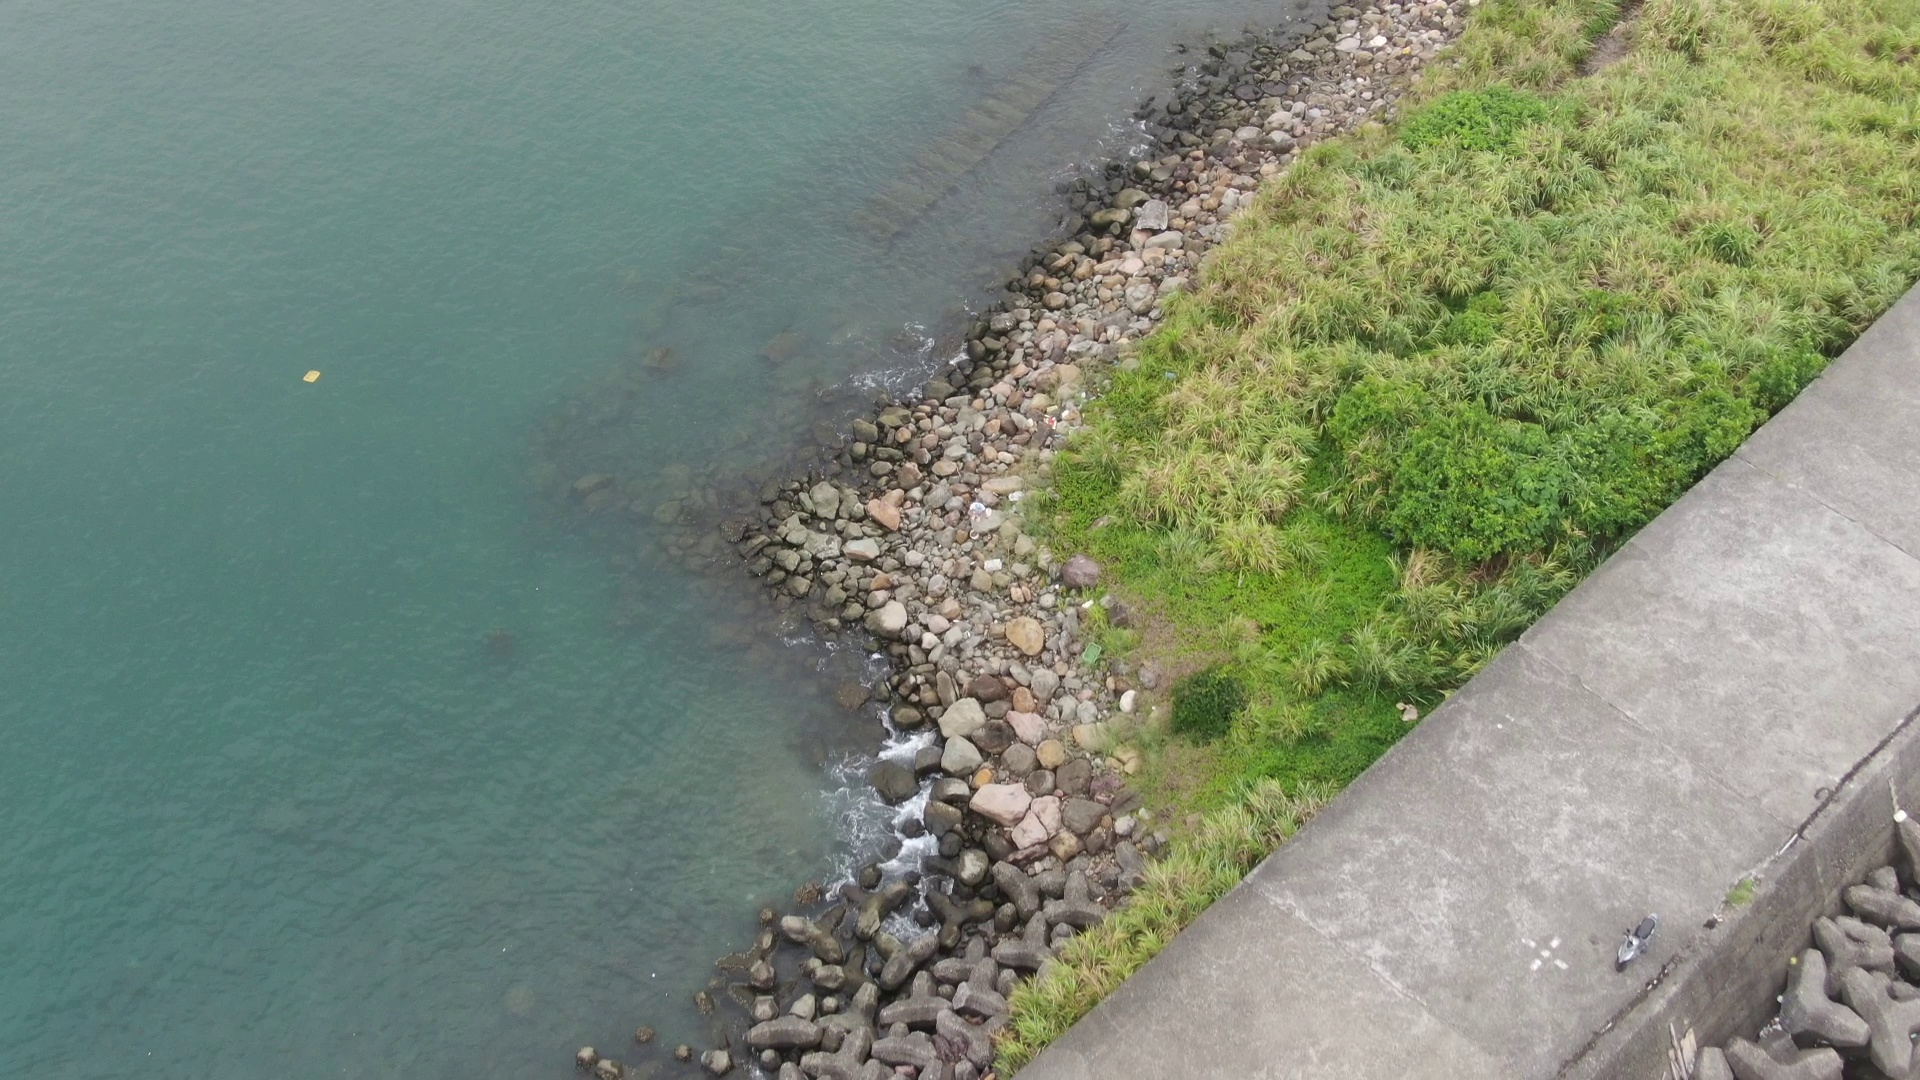garbage: (295, 361, 339, 401), (1891, 800, 1916, 835)
